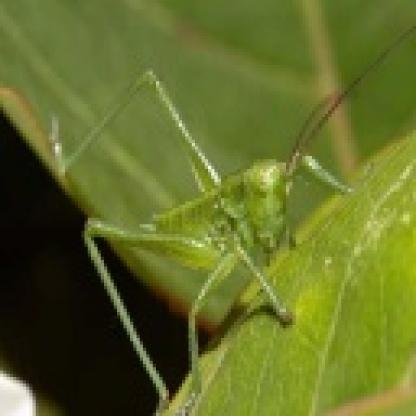grasshopper: (60, 57, 348, 416)
